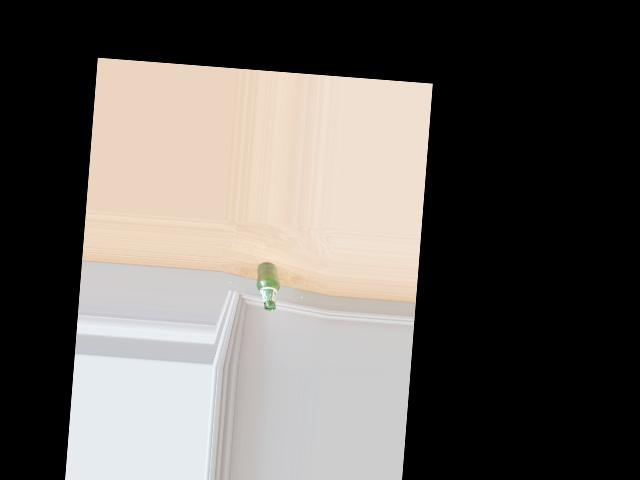beer: (254, 261, 281, 311)
